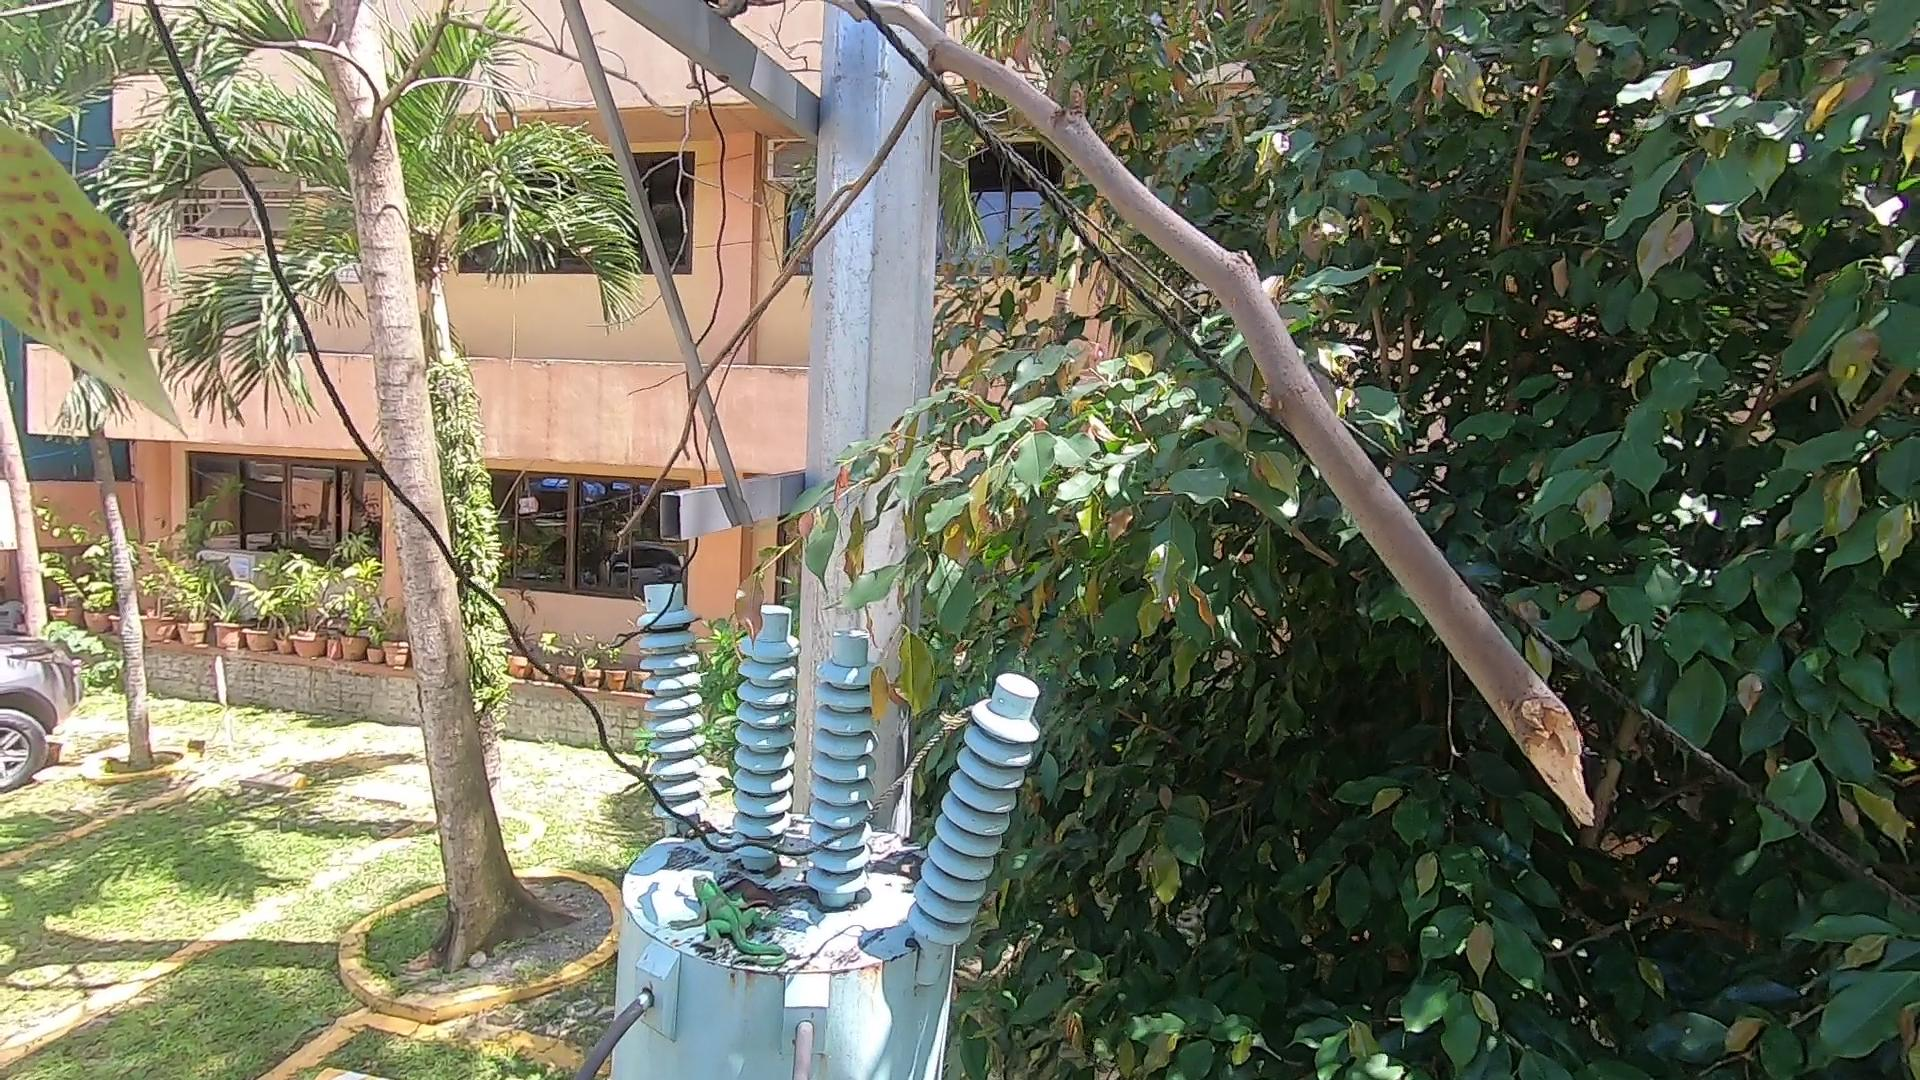branch with leaves: (728, 430, 1043, 707)
leaf: (720, 858, 831, 932), (872, 849, 920, 895), (678, 818, 728, 845)
tree branch: (702, 3, 1619, 891)
